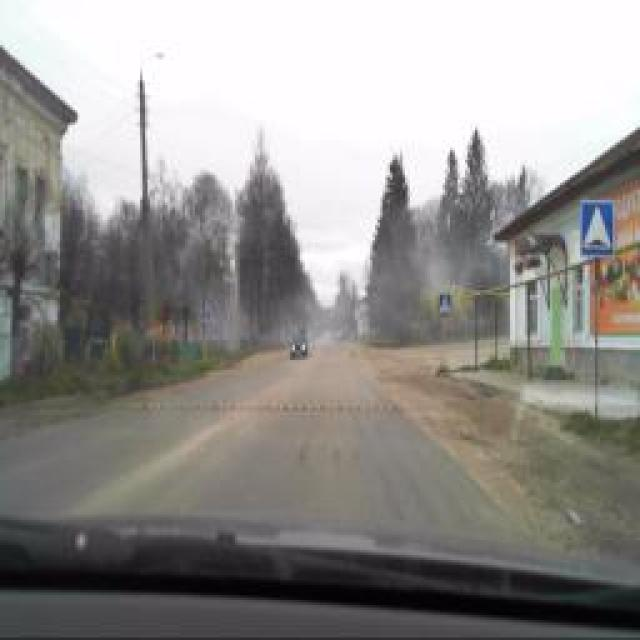sign: (580, 201, 615, 259), (439, 294, 451, 316), (199, 312, 209, 328)
